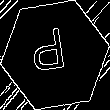P_S: (34, 27, 76, 83)
